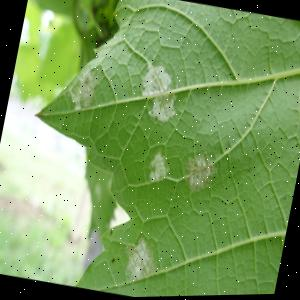Folha: (2, 0, 300, 300)
Fungo: (133, 59, 183, 125), (118, 233, 162, 285), (180, 148, 220, 197), (66, 65, 100, 111), (138, 60, 174, 100), (145, 86, 179, 125), (144, 148, 170, 184)
